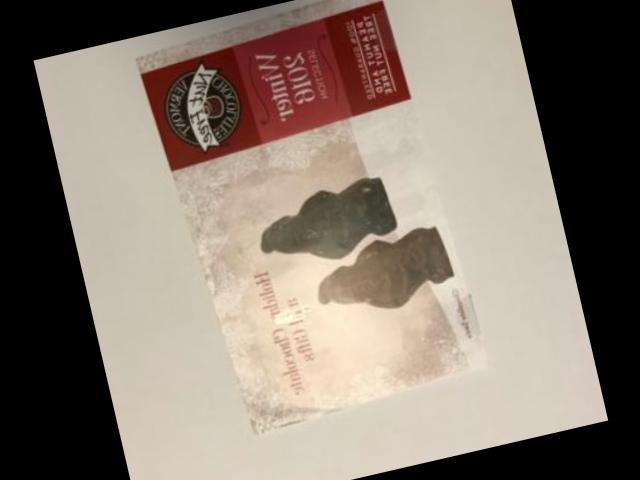cardboard paper: (140, 0, 486, 433)
